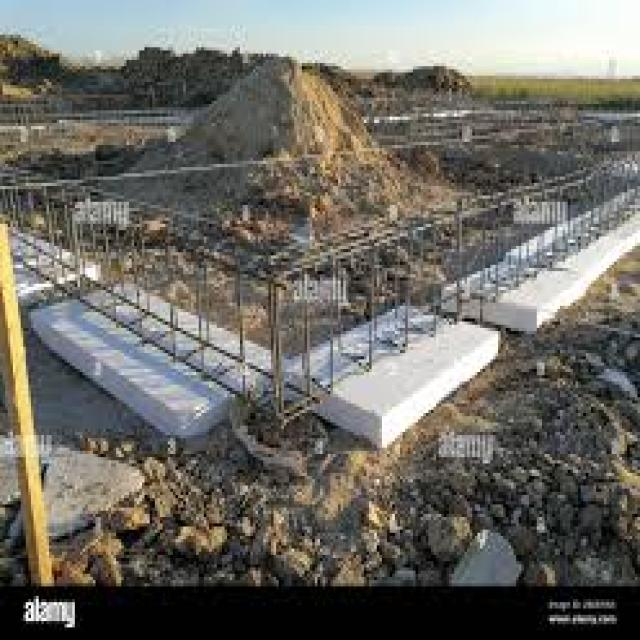Foundation: (0, 168, 635, 494)
